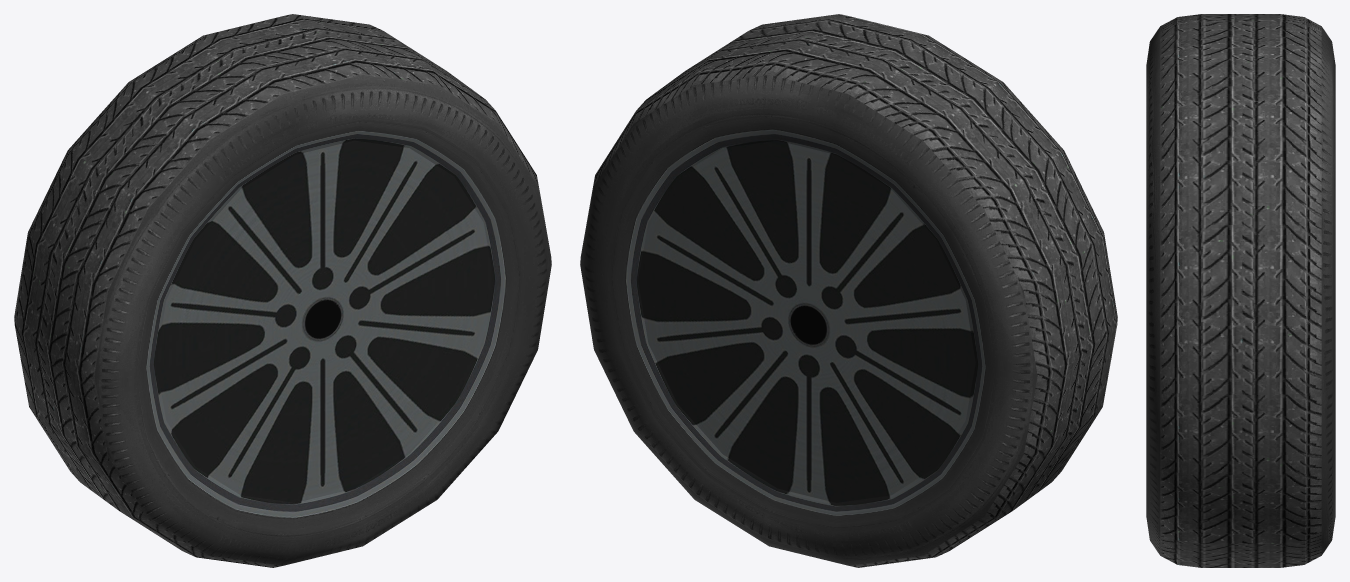
The model's file is Tyre.fbx.
The picture shows the model from 3 angles, left to right: view 1: azimuth 30°, elevation 25°; view 2: azimuth 150°, elevation 25°; view 3: azimuth 270°, elevation 25°; orthographic projection.
Visible parts, largest first — view 1: Tyre; view 2: Tyre; view 3: Tyre.
Boxes of the visible parts, x1=… form: Tyre: x1=14, y1=14, x2=551, y2=567; Tyre: x1=580, y1=14, x2=1117, y2=567; Tyre: x1=1146, y1=14, x2=1335, y2=567.
Bounding box in the file's own units: 17.81 × 17.54 × 6.06.
1 material, 1 textured.
